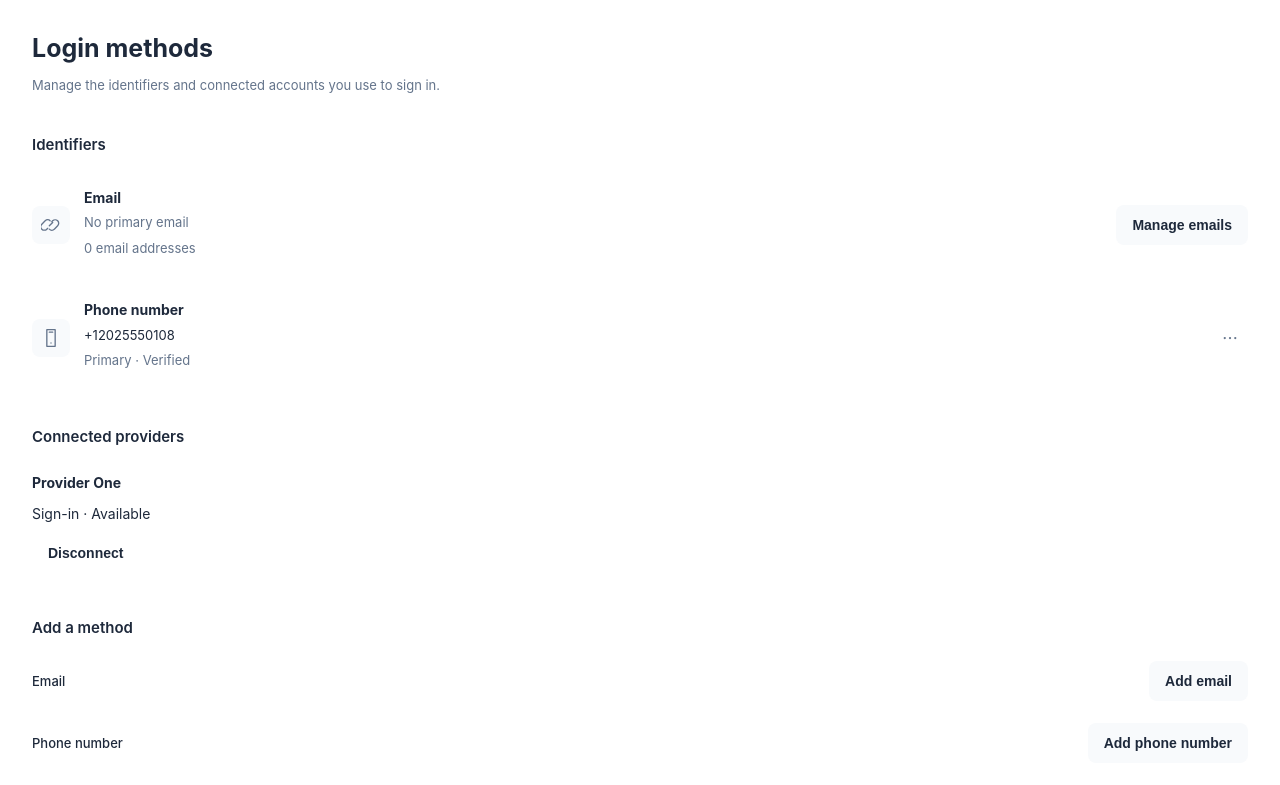
F007 F008 fixed identifier changes and default management boundary › F007 fixes PHONE at the entry and retains the exact REPLACE payload
Expected: the button "Manage emails" is shown, x1=1116 y1=205 x2=1248 y2=245
Expected: the text "+12025550108" is shown, x1=84 y1=327 x2=175 y2=343
Click the heading named "More actions: +12025550108". click: x=1230, y=338
box: x1=1221 y1=328 x2=1239 y2=346
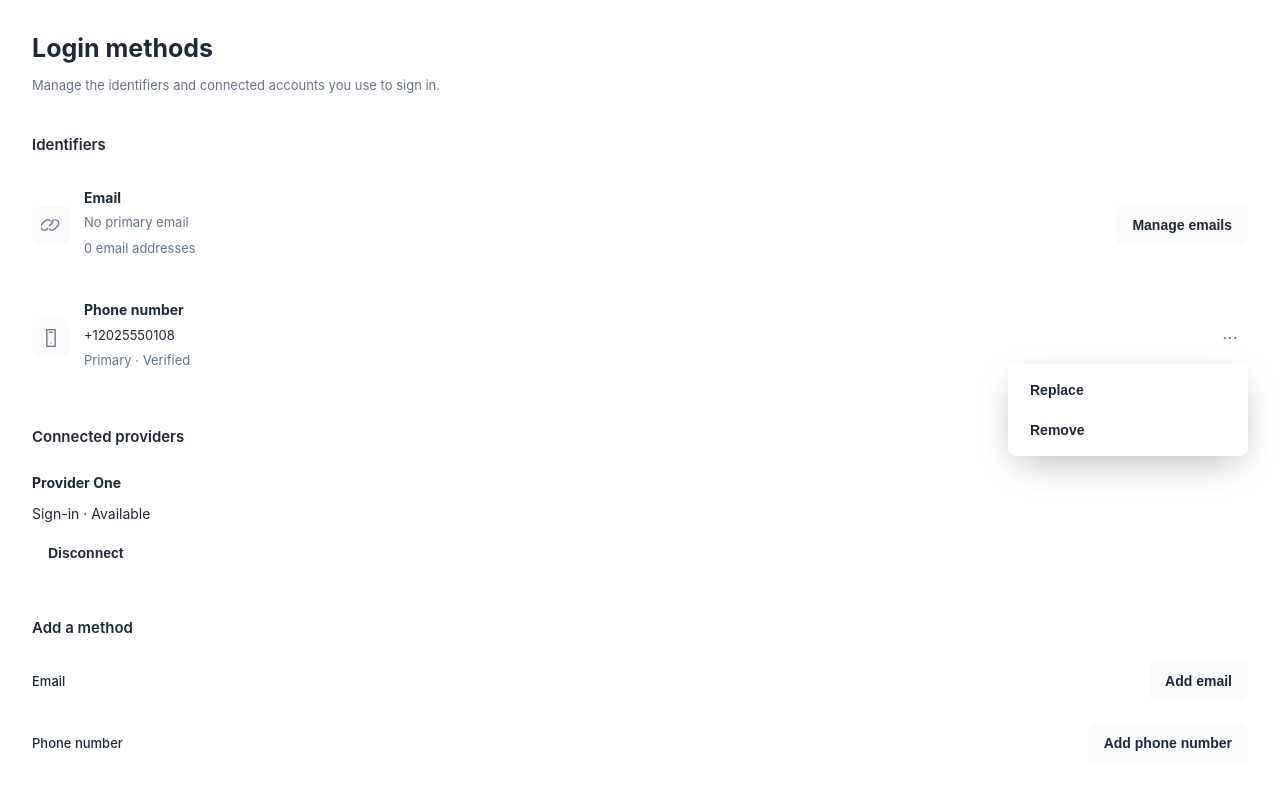
Click the button "Replace". click: x=1128, y=390
box: x1=1014 y1=370 x2=1242 y2=410
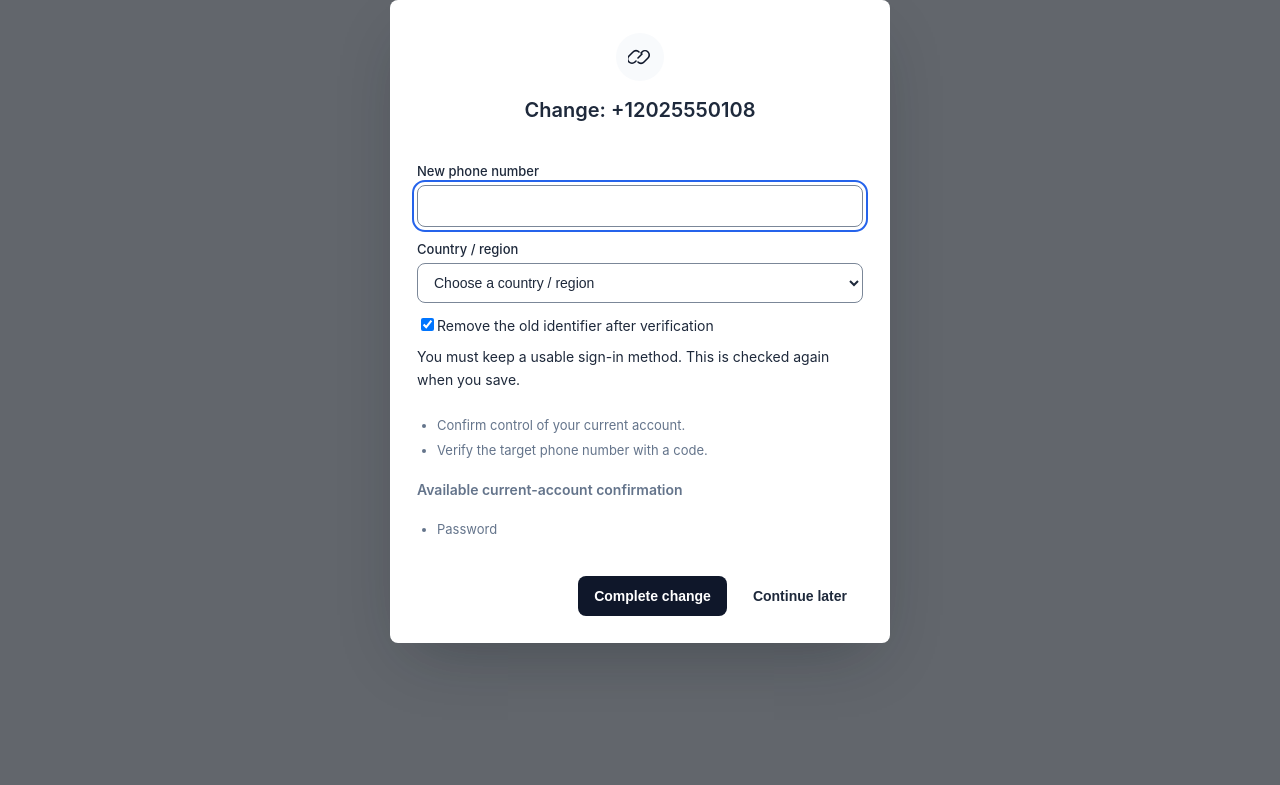
Type "+12025550109" into the field labelled "New phone number". click: x=640, y=206
box: x1=417 y1=185 x2=863 y2=227
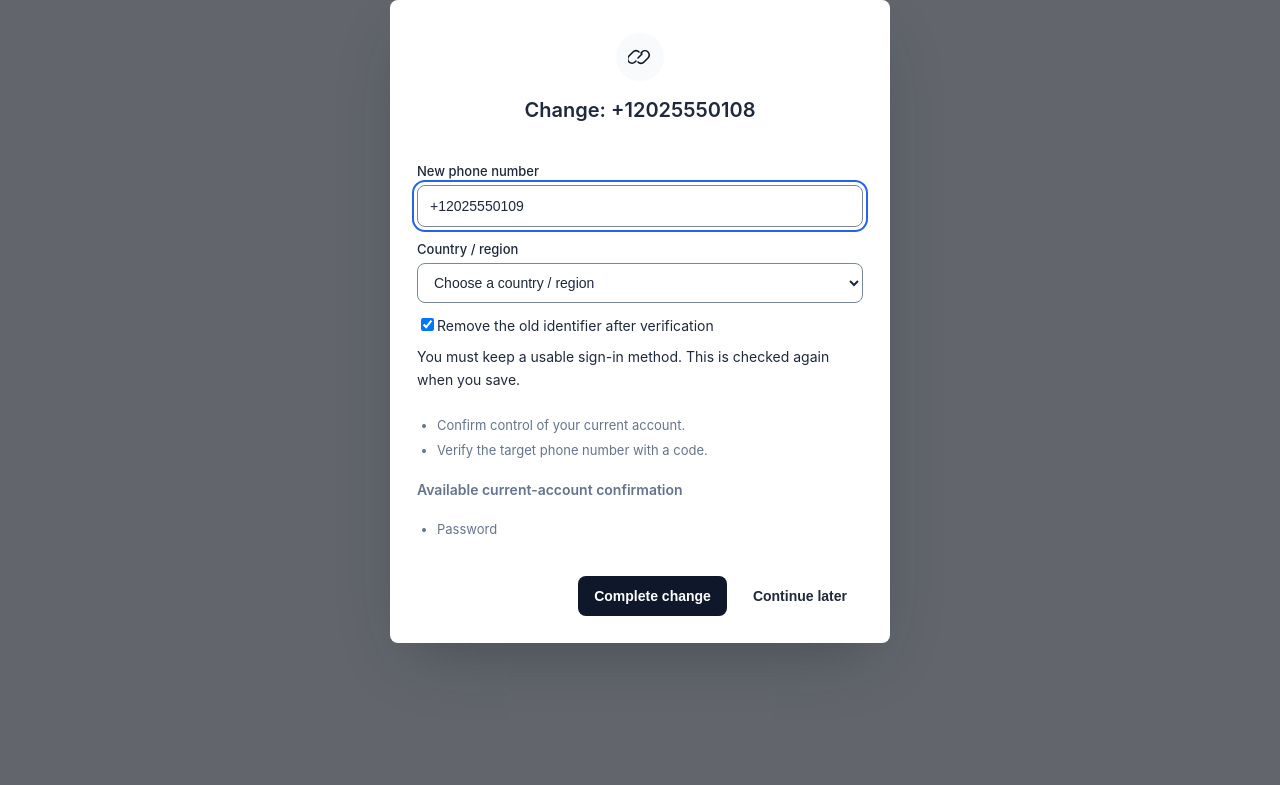
Select "US" in the dropdown labelled "Country / region". click: x=640, y=283
box: x1=417 y1=263 x2=863 y2=303
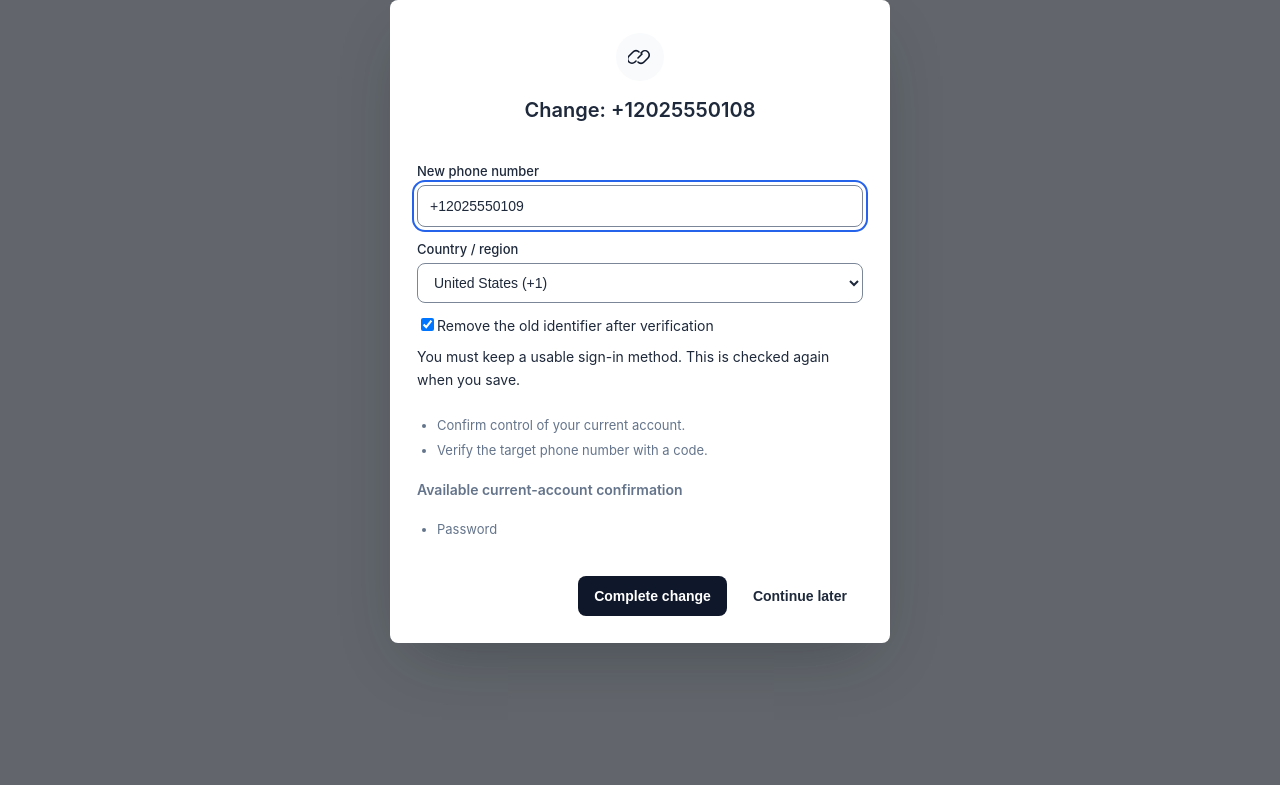
Result: the checkbox labelled "Remove the old identifier after verification" is checked at x1=421 y1=318 x2=434 y2=331
Click the button "Complete change". click: x=653, y=596
box: x1=578 y1=576 x2=727 y2=616
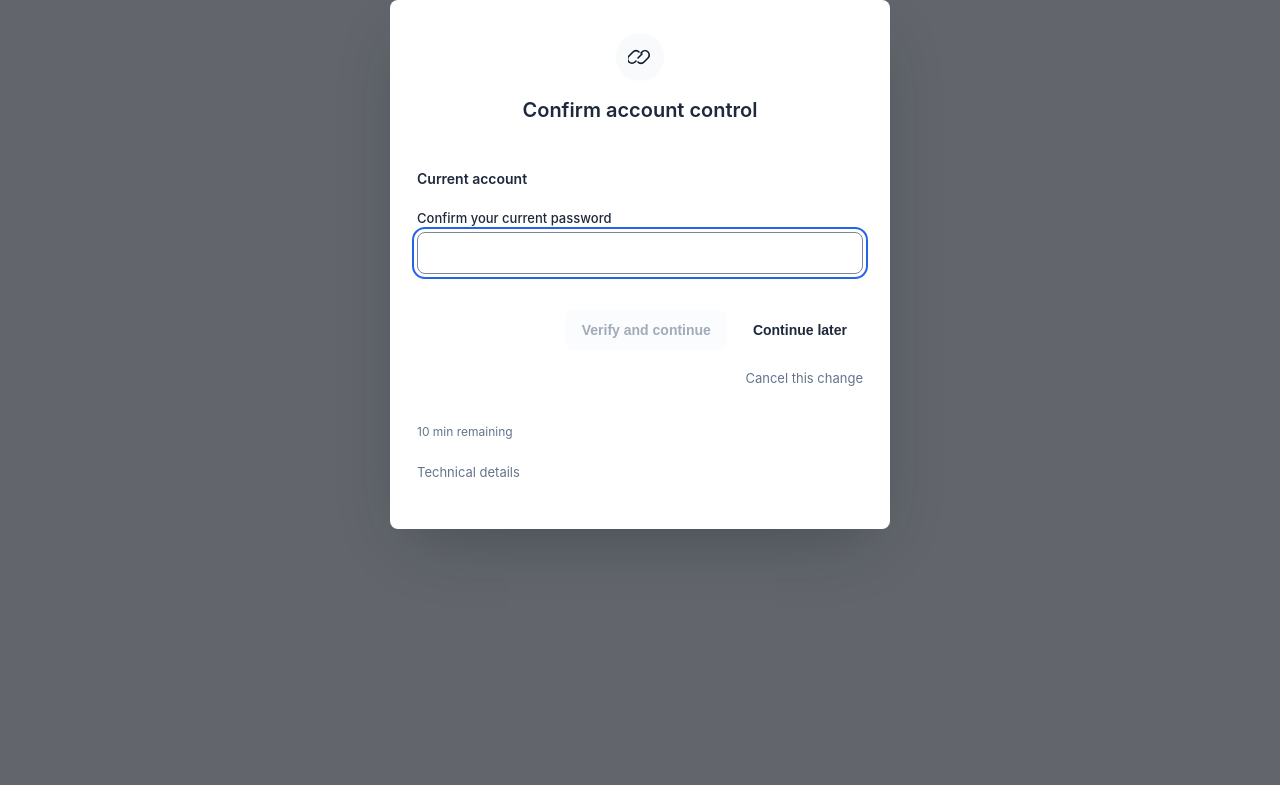
Result: the password field labelled "Confirm your current password" is shown at x1=417 y1=232 x2=863 y2=274
